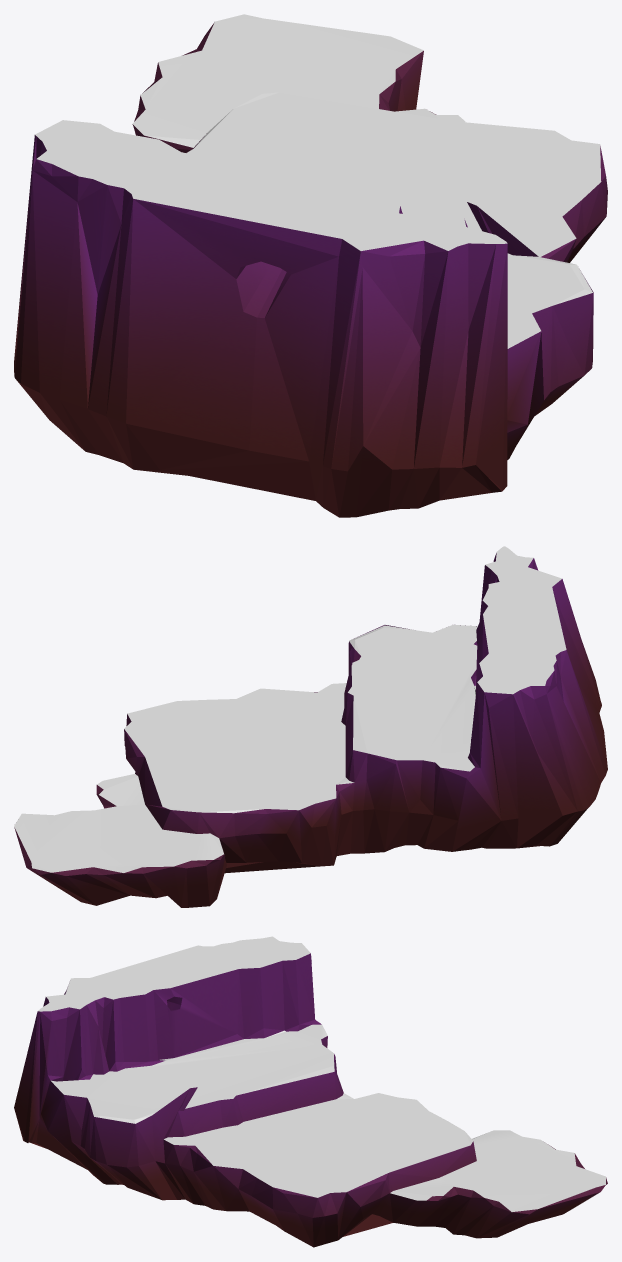
File: eihvohgvles.fbx
3 renders of one model, top to bottom at view 1: azimuth 30°, elevation 25°; view 2: azimuth 150°, elevation 25°; view 3: azimuth 270°, elevation 25°, orthographic. The views are drawn at different scales.
Parts seen in each view (by area): view 1: MOD_Level4, MOD_Level4_Floor; view 2: MOD_Level4_Floor, MOD_Level4; view 3: MOD_Level4, MOD_Level4_Floor.
Boxes of the visible parts, box(x1,y1,x2,y2) form: MOD_Level4: box(14, 22, 607, 517); MOD_Level4_Floor: box(35, 14, 601, 348); MOD_Level4_Floor: box(14, 546, 566, 872); MOD_Level4: box(14, 553, 607, 907); MOD_Level4: box(14, 953, 607, 1247); MOD_Level4_Floor: box(38, 936, 605, 1211).
Bounding box in the file's own units: 15.6 × 6.27 × 21.66.
